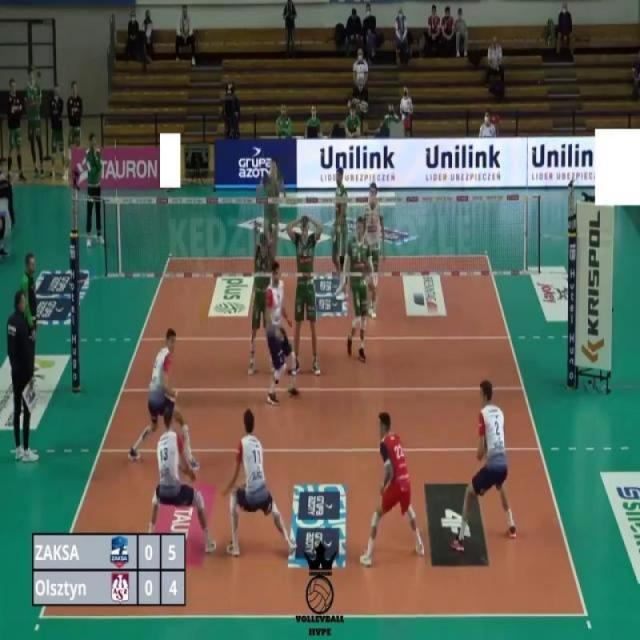volleyball: (198, 294, 210, 328)
